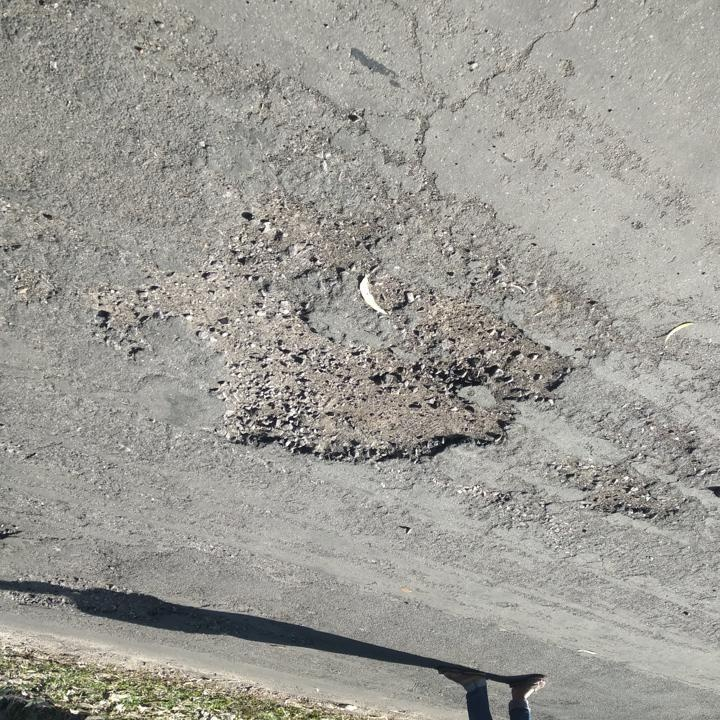pothole: (83, 195, 576, 474), (578, 461, 686, 524)
